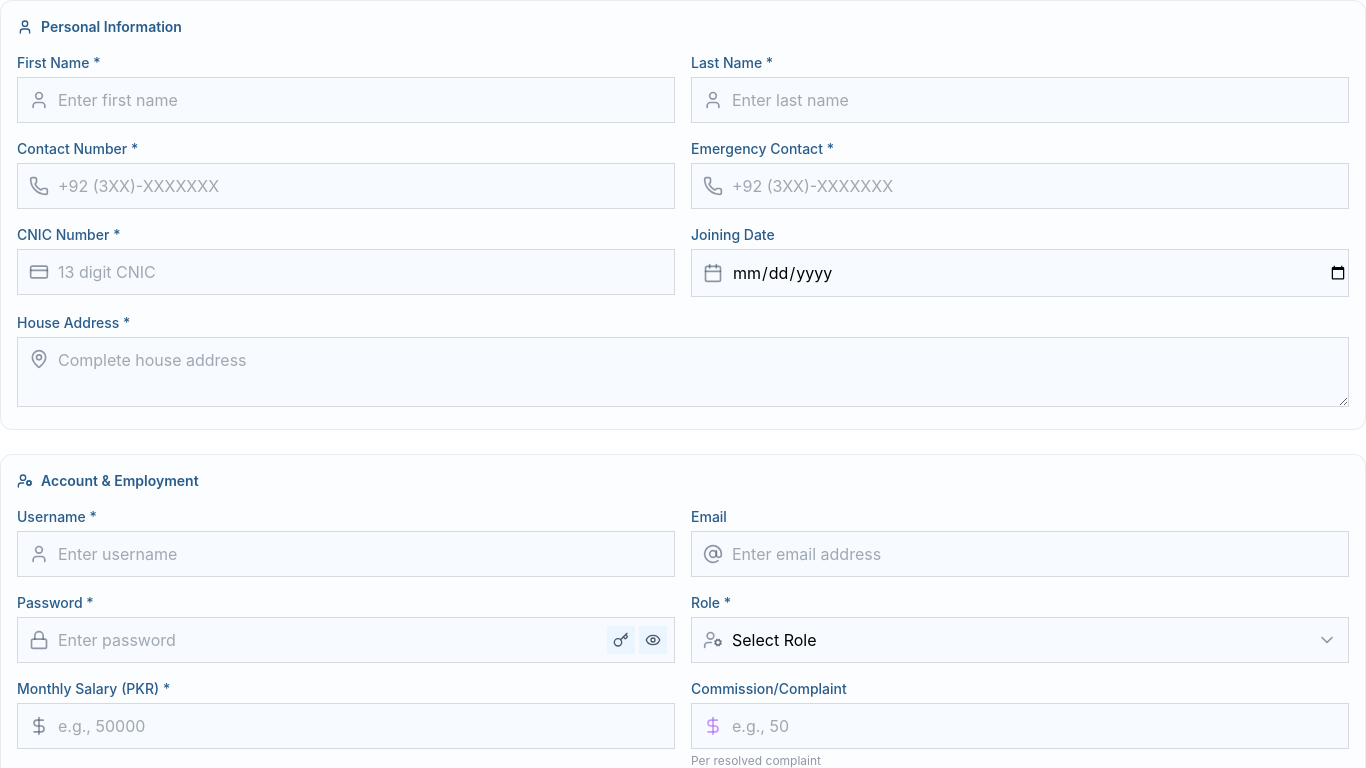
Scenario: EmployeeForm contact validation › shows duplicate CNIC availability errors from the backend
Type "1234512345671" into the field labelled "CNIC Number *" at (346,272), box [17,249,675,295]
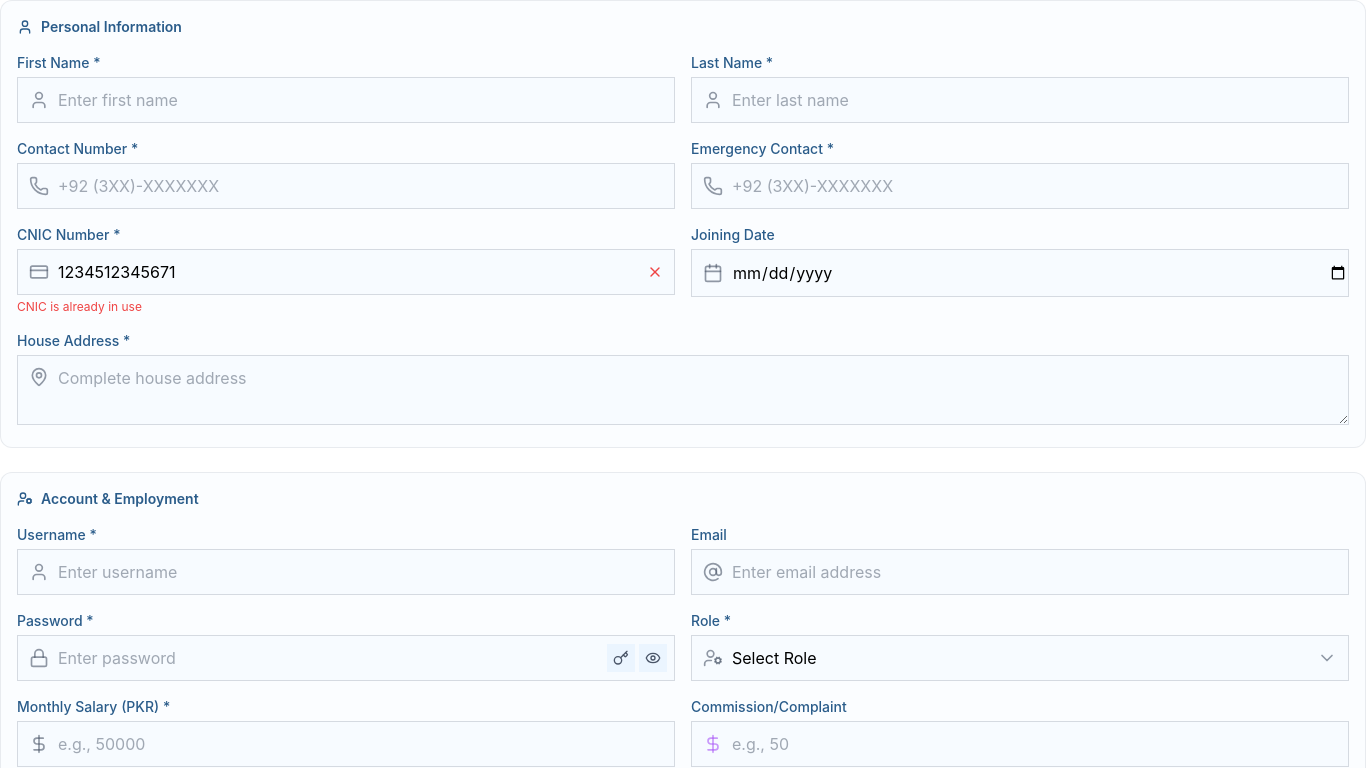
expect the text "CNIC is already in use" is shown: met, box [17,299,142,314]
